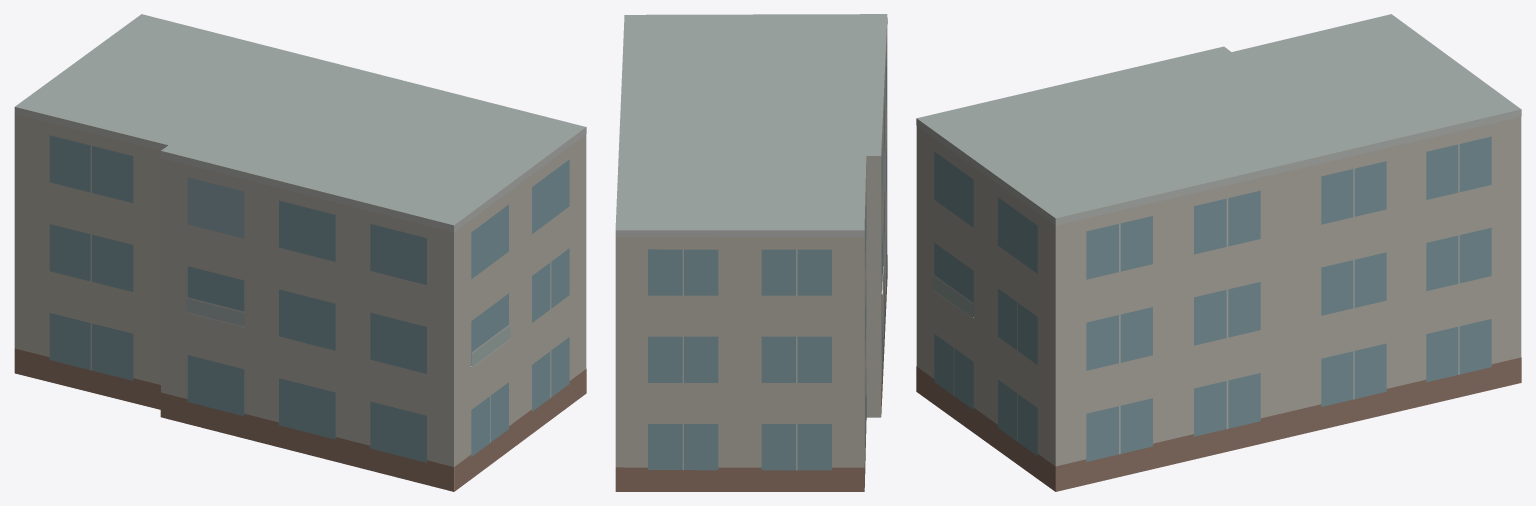
The model's file is survey-upis-32880441.glb.
The picture shows the model from 3 angles, left to right: view 1: azimuth 30°, elevation 25°; view 2: azimuth 150°, elevation 25°; view 3: azimuth 270°, elevation 25°; orthographic projection. The views are drawn at different scales.
Visible parts, largest first — view 1: survey-upis-32880441.tmp; view 2: survey-upis-32880441.tmp; view 3: survey-upis-32880441.tmp.
Boxes of the visible parts, x1,y1,x2,y2 form: survey-upis-32880441.tmp: (14,14,586,491); survey-upis-32880441.tmp: (615,14,887,491); survey-upis-32880441.tmp: (916,14,1521,491).
Size of the model in its own units: 14.68 by 9.15 by 18.36.
